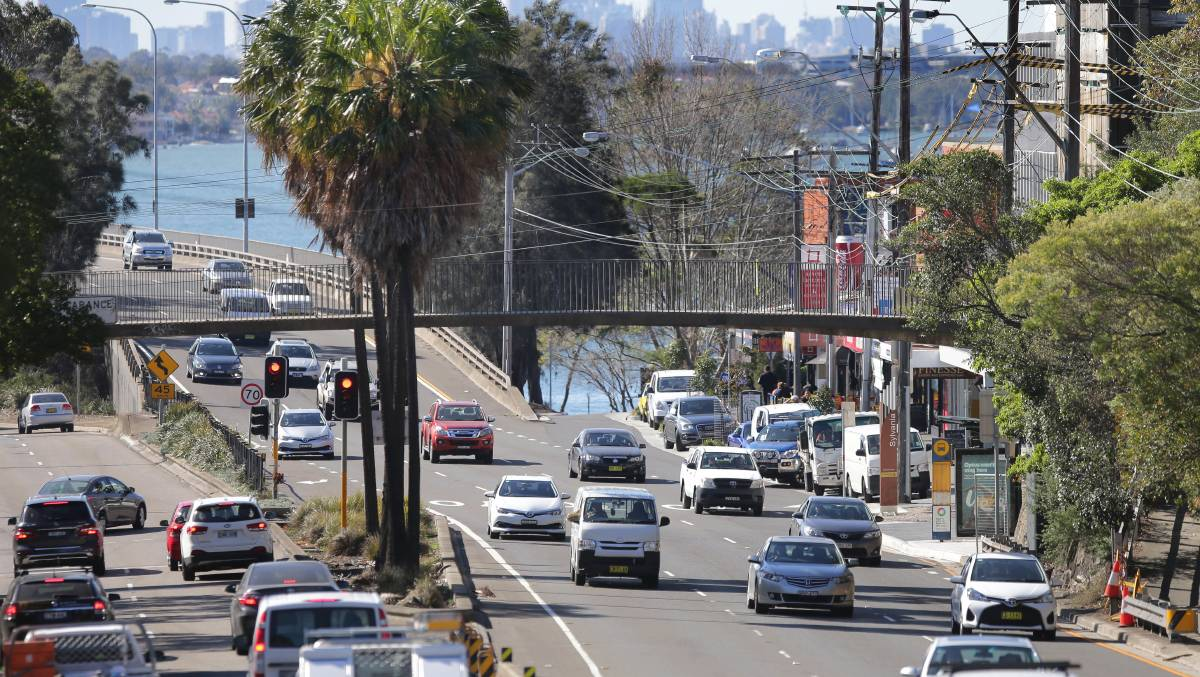bridge: (81, 257, 932, 349)
